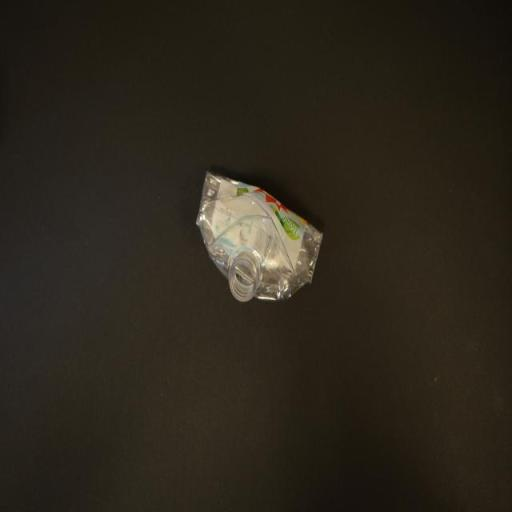plastic: (198, 170, 322, 306)
